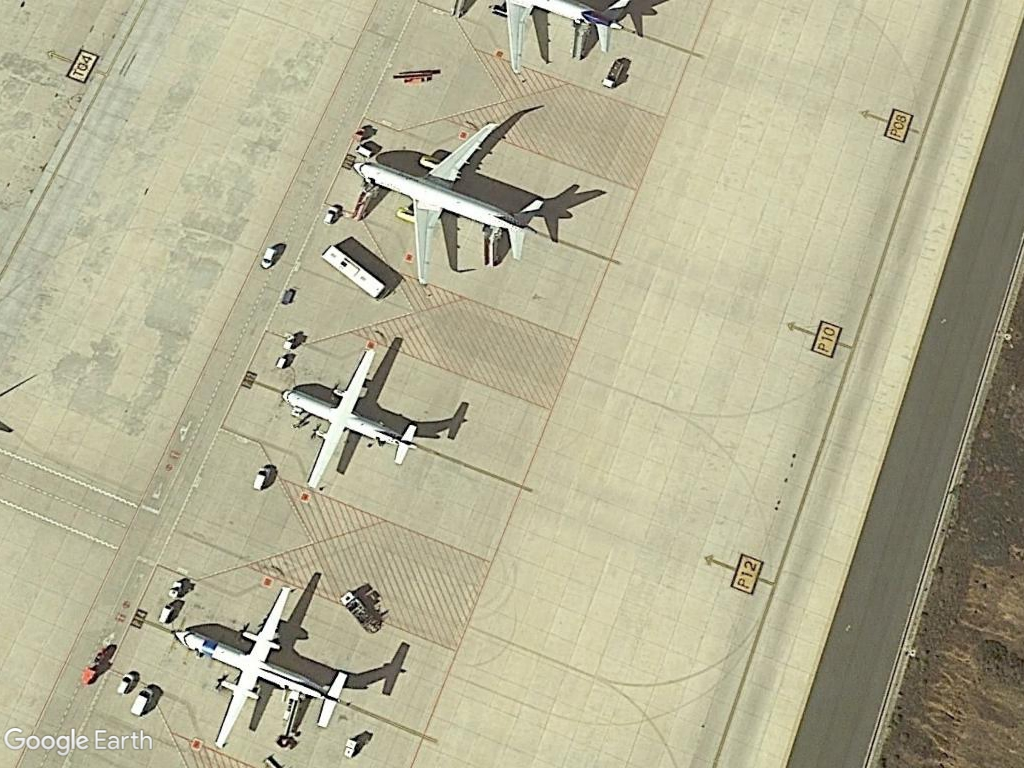airliner: (348, 102, 555, 289)
bus: (315, 240, 390, 304)
propeller: (167, 577, 359, 757), (277, 336, 427, 498)
van: (128, 682, 155, 723), (251, 462, 273, 497), (257, 242, 281, 274)
